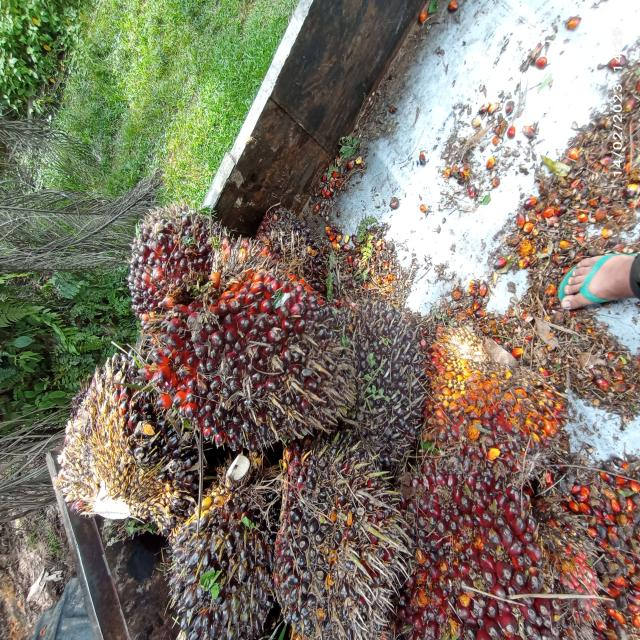fraksi 00: (268, 449, 416, 640), (139, 462, 291, 640), (336, 272, 432, 493)
fraksi 1: (100, 203, 382, 455)
fraksi 3: (420, 310, 555, 520), (408, 479, 566, 640)
